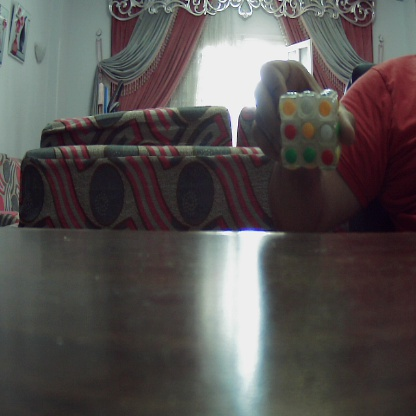Rubix Cube: (277, 93, 342, 167)
